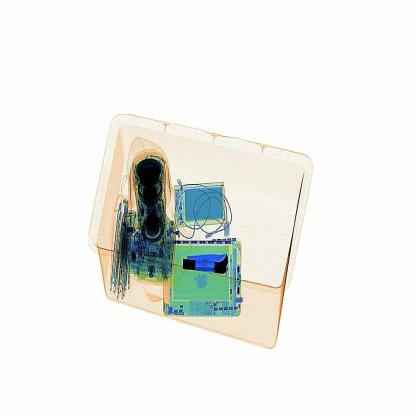knife: (179, 254, 236, 282)
